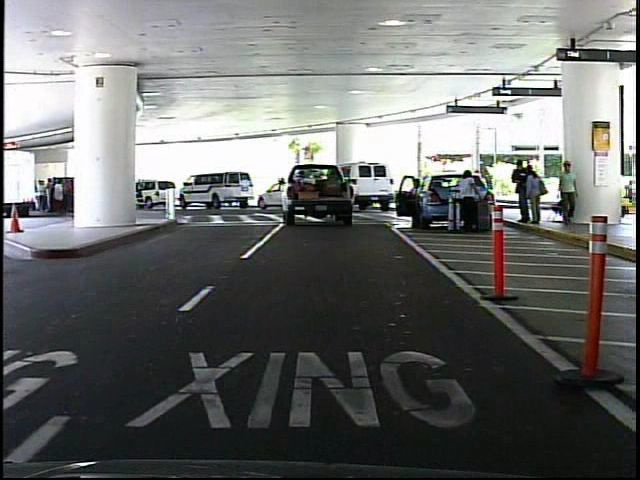person: (452, 165, 483, 237), (553, 159, 580, 229)
